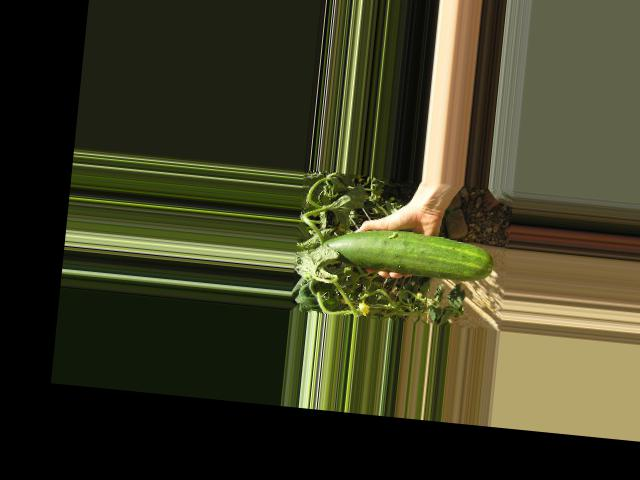cucumber: (318, 223, 496, 284)
